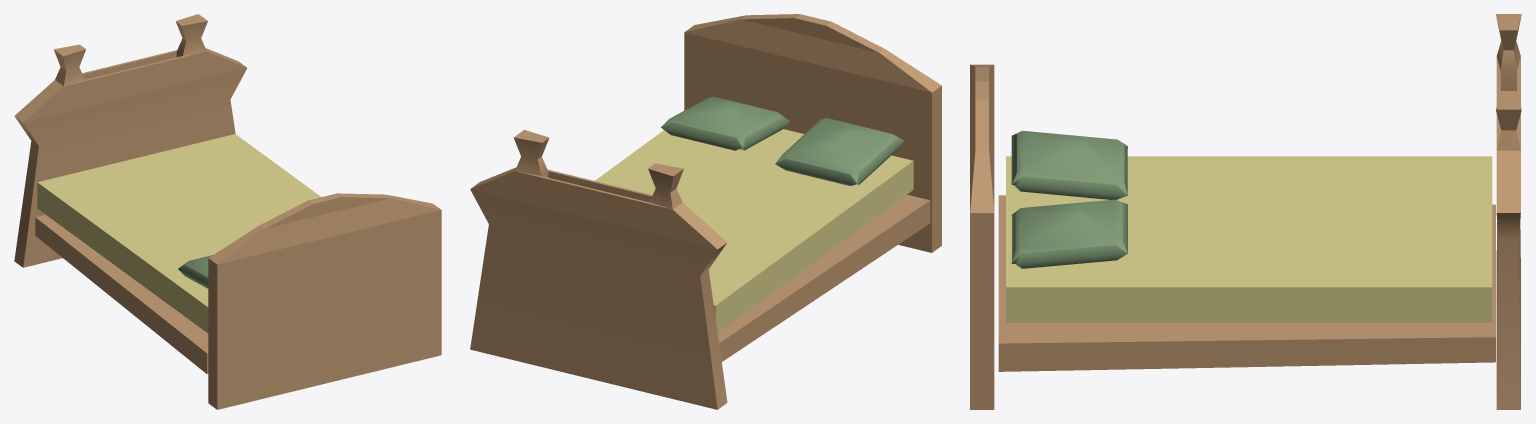
The model's file is bed.fbx.
3 views of the same model, side by side, from view 1: azimuth 30°, elevation 25°; view 2: azimuth 150°, elevation 25°; view 3: azimuth 270°, elevation 25° (orthographic). The views are drawn at different scales.
Visible parts, largest first — view 1: pCube2, bed1, pCube3, pCube1, pillow; view 2: pCube3, pCube2, bed1, pCube1, pillow, pillow1; view 3: bed1, pCube1, pCube3, pCube2, pillow, pillow1.
Boxes of the visible parts, x1,y1,x2,y2 form: pCube2: [208, 193, 441, 409]; bed1: [37, 134, 321, 333]; pCube3: [14, 14, 246, 267]; pCube1: [35, 214, 208, 373]; pillow: [178, 255, 212, 288]; pCube3: [470, 130, 727, 409]; pCube2: [684, 14, 941, 252]; bed1: [595, 129, 913, 332]; pCube1: [717, 194, 930, 361]; pillow: [775, 118, 903, 185]; pillow1: [661, 96, 789, 150]; bed1: [1006, 156, 1492, 322]; pCube1: [998, 195, 1495, 371]; pCube3: [1495, 14, 1521, 409]; pCube2: [970, 64, 994, 409]; pillow: [1011, 130, 1127, 199]; pillow1: [1011, 199, 1127, 268].
Bounding box in the file's own units: 368 × 316 × 578.
